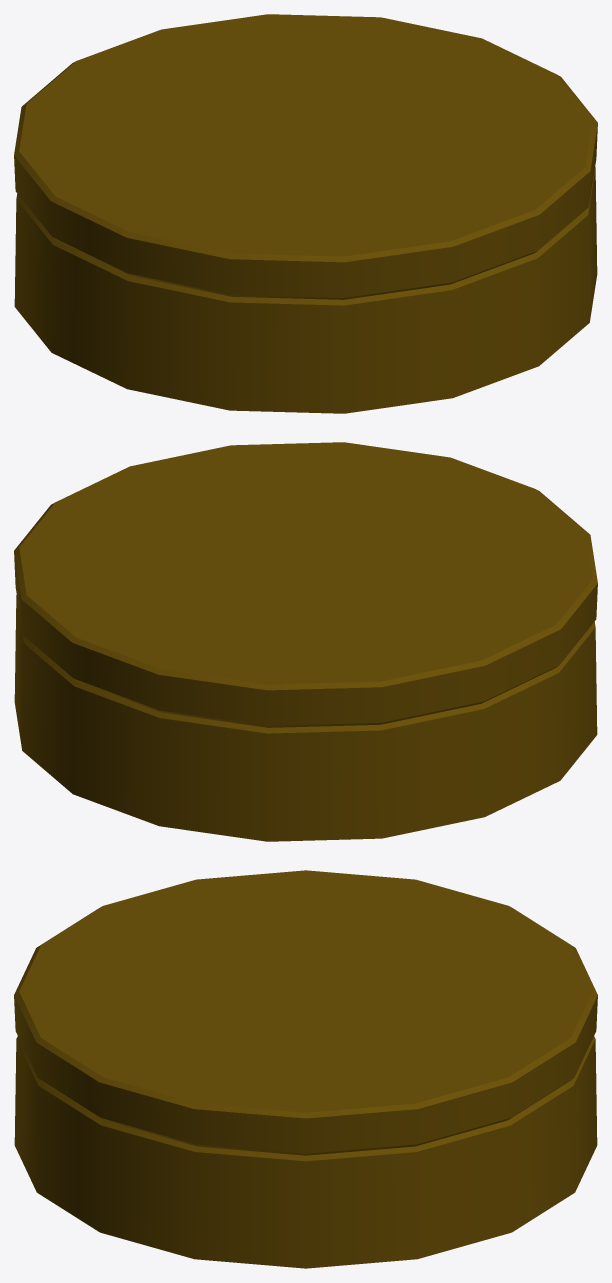
The model's file is original-3.obj.
The picture shows the model from 3 angles, top to bottom: view 1: azimuth 30°, elevation 25°; view 2: azimuth 150°, elevation 25°; view 3: azimuth 270°, elevation 25°; orthographic projection.
Parts seen in each view (by area): view 1: mesh2/mesh2-geometry#mesh2-geometry; view 2: mesh2/mesh2-geometry#mesh2-geometry; view 3: mesh2/mesh2-geometry#mesh2-geometry.
Boxes of the visible parts, x1,y1,x2,y2 form: mesh2/mesh2-geometry#mesh2-geometry: (14, 14, 597, 413); mesh2/mesh2-geometry#mesh2-geometry: (14, 442, 597, 841); mesh2/mesh2-geometry#mesh2-geometry: (14, 870, 597, 1268).
Size of the model in its own units: 0.3401 by 0.0989 by 0.3401.
